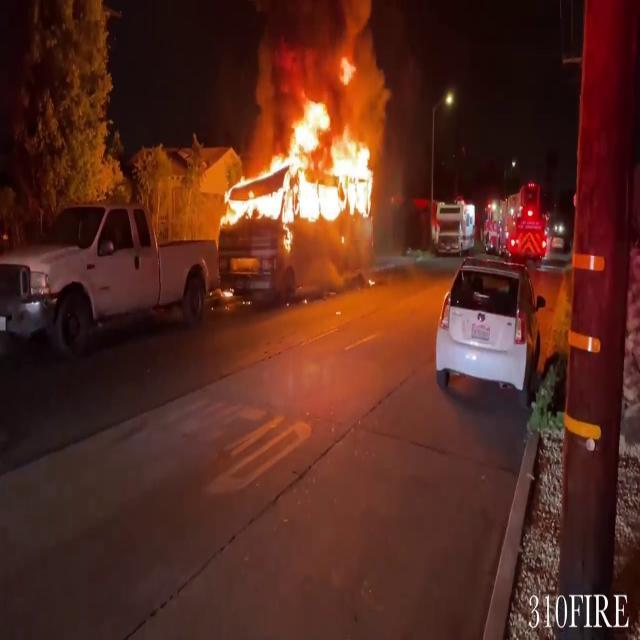Fire: (214, 84, 386, 232)
Smoke: (250, 0, 387, 117)
